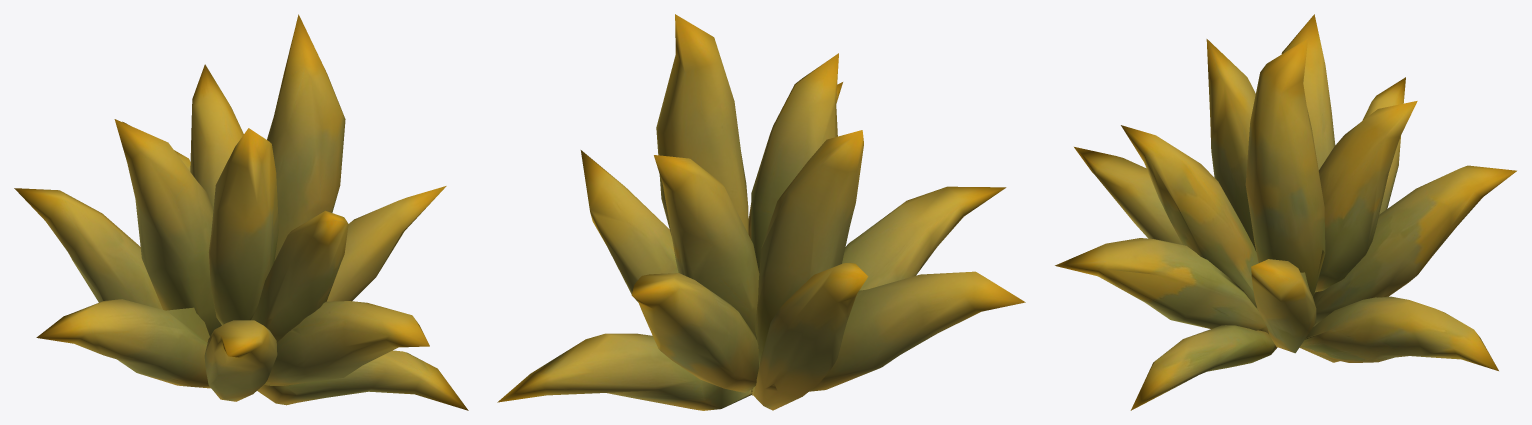
3 renders of one model, left to right at view 1: azimuth 30°, elevation 25°; view 2: azimuth 150°, elevation 25°; view 3: azimuth 270°, elevation 25°, orthographic. The views are drawn at different scales.
Parts seen in each view (by area): view 1: tripo_node_d0842e13-aa6e-4ded-94b4-2b646d46b61e; view 2: tripo_node_d0842e13-aa6e-4ded-94b4-2b646d46b61e; view 3: tripo_node_d0842e13-aa6e-4ded-94b4-2b646d46b61e.
Part boxes in pixels (box(x1,y1,x2,y2)): tripo_node_d0842e13-aa6e-4ded-94b4-2b646d46b61e: box(14, 14, 468, 410); tripo_node_d0842e13-aa6e-4ded-94b4-2b646d46b61e: box(497, 14, 1025, 410); tripo_node_d0842e13-aa6e-4ded-94b4-2b646d46b61e: box(1055, 14, 1516, 410).
Bounding box in the file's own units: 0.998 × 0.8184 × 0.998.
1 material, 1 textured.
